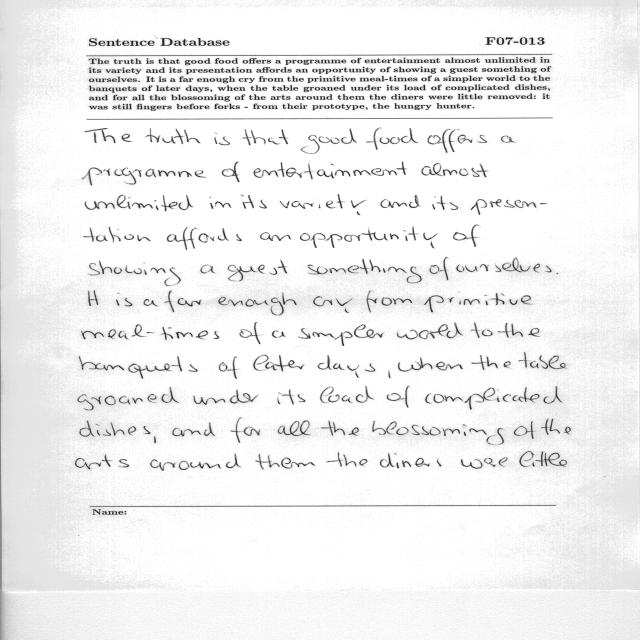word: (425, 386, 562, 410), (372, 421, 504, 445), (300, 227, 437, 248), (308, 259, 422, 283), (79, 356, 197, 379), (253, 162, 406, 179), (78, 387, 179, 410), (89, 261, 181, 286), (82, 325, 219, 341), (82, 168, 206, 185), (280, 194, 366, 215), (299, 325, 384, 346), (218, 294, 297, 316), (85, 195, 193, 211), (167, 227, 242, 250), (150, 454, 241, 471), (456, 258, 552, 273), (428, 129, 487, 153), (301, 129, 357, 154), (318, 355, 375, 378), (471, 199, 547, 215), (228, 261, 287, 281), (366, 128, 418, 150), (397, 323, 463, 340), (84, 227, 151, 242), (449, 293, 531, 305), (398, 357, 463, 372), (367, 291, 412, 312), (194, 390, 257, 405), (421, 163, 488, 177), (380, 453, 441, 468), (320, 386, 373, 403), (256, 454, 316, 469), (80, 421, 136, 437), (253, 355, 304, 372), (146, 128, 200, 144), (75, 455, 129, 470), (519, 352, 566, 369), (519, 451, 567, 467), (165, 291, 201, 312), (231, 418, 260, 443), (243, 129, 288, 145), (85, 128, 132, 143), (313, 296, 352, 313), (499, 323, 540, 338), (472, 355, 511, 370), (453, 225, 479, 247), (321, 421, 359, 436), (461, 457, 507, 469), (173, 423, 215, 436), (327, 453, 368, 466), (278, 420, 310, 436), (381, 195, 420, 208), (542, 419, 571, 435), (387, 386, 409, 407), (240, 323, 260, 345), (278, 390, 306, 405), (430, 257, 448, 280), (219, 357, 237, 379), (432, 195, 458, 210), (241, 195, 267, 209), (222, 162, 240, 182), (514, 421, 534, 439), (471, 322, 493, 338), (424, 296, 444, 313), (260, 232, 291, 241), (210, 197, 231, 209), (143, 426, 156, 443), (116, 293, 132, 306), (214, 133, 230, 145), (88, 290, 98, 306), (200, 265, 215, 273), (272, 330, 285, 338), (501, 136, 515, 143), (144, 299, 158, 306), (388, 372, 391, 378), (557, 273, 558, 274)
